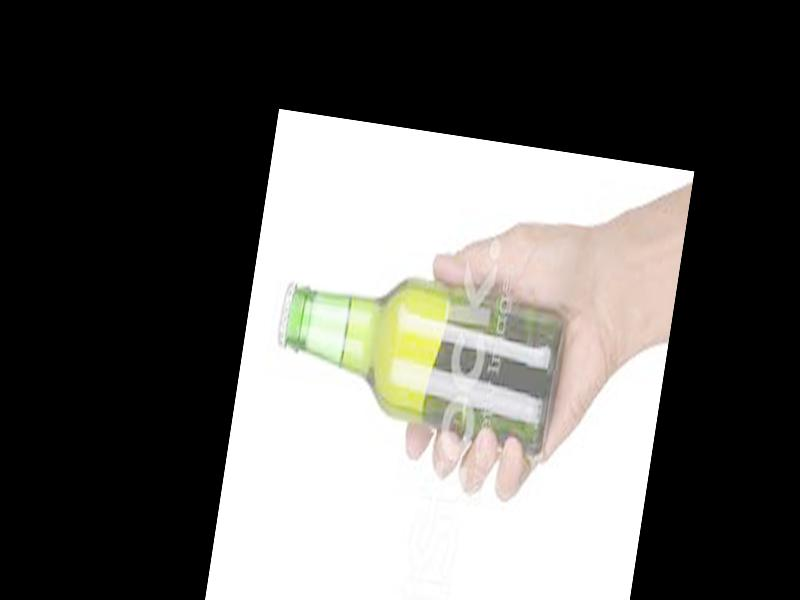Beer: (266, 255, 569, 449)
